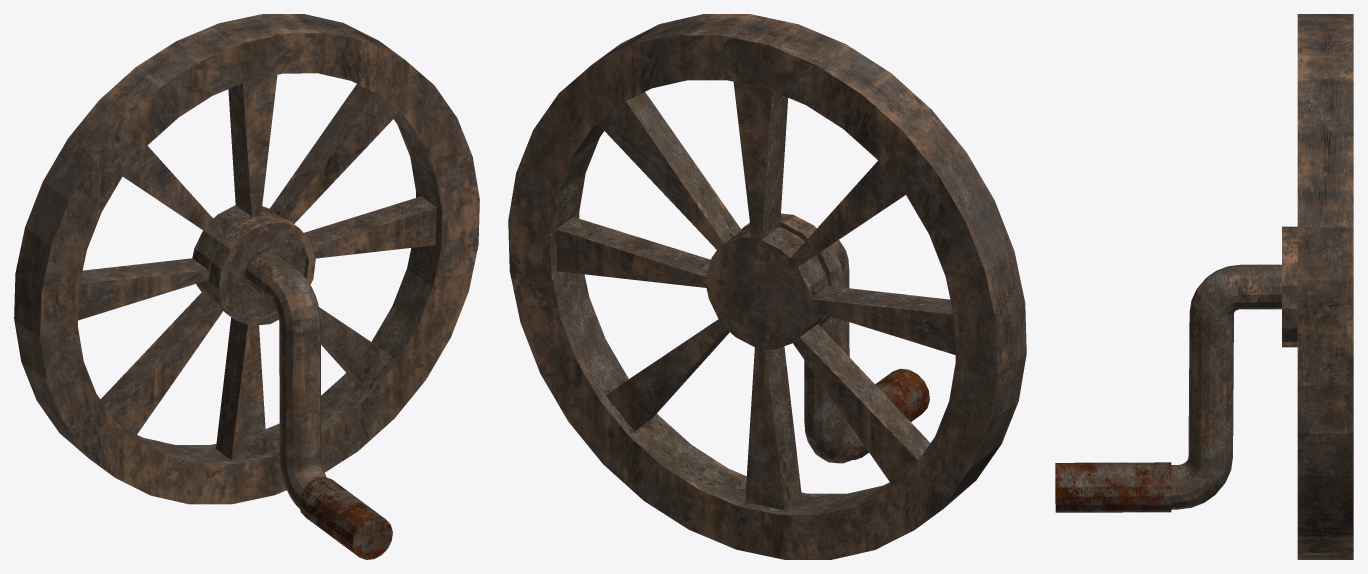
The model's file is B.Prop_Crank_wheel.fbx.
3 renders of one model, left to right at view 1: azimuth 30°, elevation 25°; view 2: azimuth 150°, elevation 25°; view 3: azimuth 270°, elevation 25°, orthographic. The views are drawn at different scales.
Visible parts, largest first — view 1: Cylinder.001; view 2: Cylinder.001; view 3: Cylinder.001.
Boxes of the visible parts, left/top/right/bottom form: Cylinder.001: left=14, top=14, right=479, bottom=559; Cylinder.001: left=508, top=14, right=1026, bottom=559; Cylinder.001: left=1055, top=14, right=1353, bottom=559.
Bounding box in the file's own units: 998 × 998 × 546.
1 material, 1 textured.
